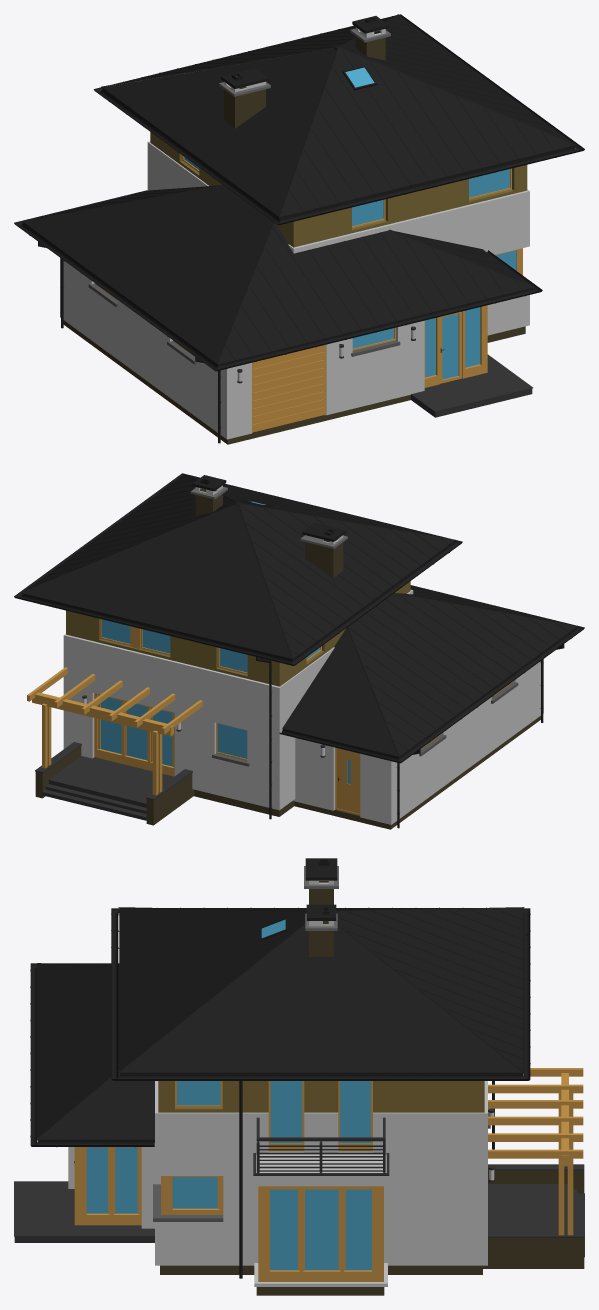
The model's file is House.obj.
3 renders of one model, top to bottom at view 1: azimuth 30°, elevation 25°; view 2: azimuth 150°, elevation 25°; view 3: azimuth 270°, elevation 25°, orthographic. The views are drawn at different scales.
Visible parts, largest first — view 1: roof, body_house, gutters, windows, garage, chimneys, fundametnts, stairs, ridge, door, parapet, window_roof; view 2: roof, body_house, gutters, windows, stairs, boards, door, chimneys, wall_barrels, fundametnts, ridge, parapet; view 3: roof, body_house, windows, stairs, gutters, boards, wall_barrels, fundametnts, barrels, chimneys, ridge, parapet.
Boxes of the visible parts, x1=… form: roof: x1=22, y1=15, x2=576, y2=366; body_house: x1=60, y1=73, x2=529, y2=439; gutters: x1=14, y1=14, x2=584, y2=443; windows: x1=94, y1=156, x2=522, y2=387; garage: x1=252, y1=344, x2=325, y2=432; chimneys: x1=219, y1=16, x2=390, y2=128; fundametnts: x1=63, y1=320, x2=532, y2=444; stairs: x1=411, y1=354, x2=533, y2=411; ridge: x1=22, y1=14, x2=576, y2=364; door: x1=440, y1=311, x2=461, y2=383; parapet: x1=88, y1=283, x2=400, y2=364; window_roof: x1=342, y1=65, x2=377, y2=90; roof: x1=21, y1=474, x2=577, y2=758; body_house: x1=63, y1=581, x2=543, y2=824; gutters: x1=14, y1=473, x2=584, y2=828; windows: x1=100, y1=619, x2=512, y2=815; stairs: x1=42, y1=756, x2=173, y2=820; boards: x1=27, y1=667, x2=202, y2=795; door: x1=94, y1=693, x2=174, y2=776; chimneys: x1=190, y1=475, x2=347, y2=577; wall_barrels: x1=35, y1=742, x2=194, y2=825; fundametnts: x1=194, y1=716, x2=540, y2=829; ridge: x1=21, y1=473, x2=577, y2=756; parapet: x1=212, y1=682, x2=518, y2=766; roof: x1=36, y1=907, x2=523, y2=1144; body_house: x1=68, y1=1081, x2=487, y2=1286; windows: x1=74, y1=1081, x2=383, y2=1281; stairs: x1=14, y1=1181, x2=584, y2=1257; gutters: x1=30, y1=908, x2=530, y2=1278; boards: x1=488, y1=1068, x2=583, y2=1235; wall_barrels: x1=483, y1=1164, x2=584, y2=1268; fundametnts: x1=14, y1=1236, x2=482, y2=1295; barrels: x1=253, y1=1117, x2=389, y2=1175; chimneys: x1=304, y1=858, x2=338, y2=956; ridge: x1=36, y1=907, x2=524, y2=1139; parapet: x1=153, y1=1108, x2=490, y2=1221.
Bounding box in the file's own units: 13.64 × 9 × 14.54.
